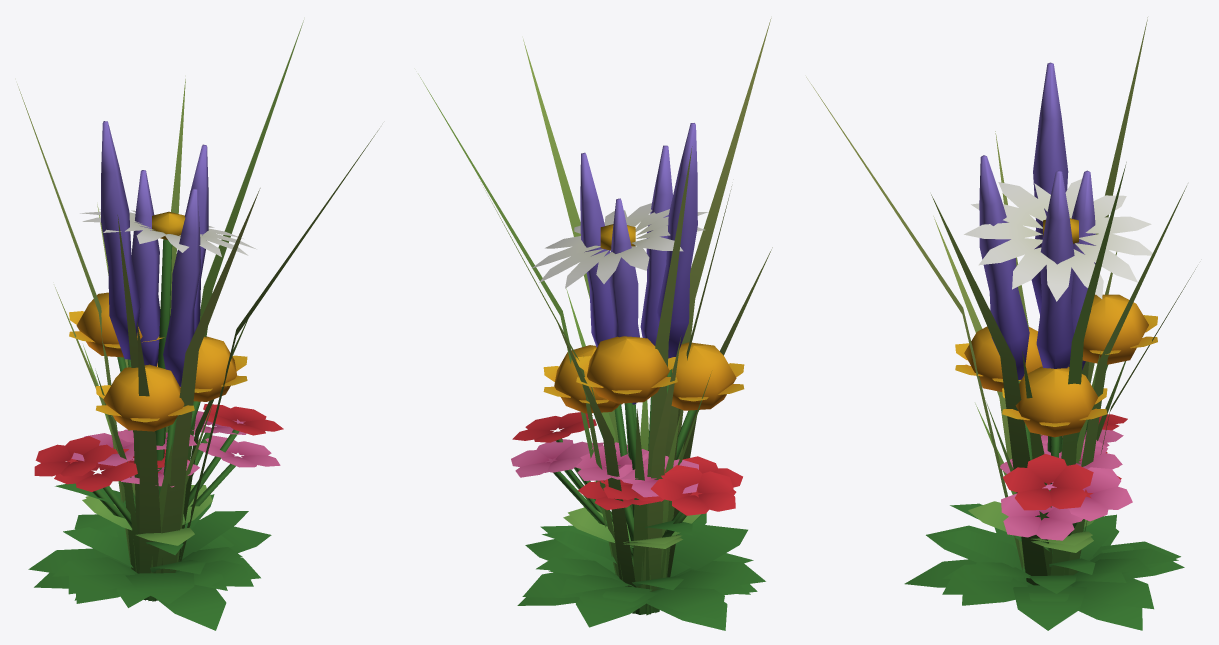
Rendered from flores.glb.
3 views of the same model, side by side, from view 1: azimuth 30°, elevation 25°; view 2: azimuth 150°, elevation 25°; view 3: azimuth 270°, elevation 25° (orthographic). The views are drawn at different scales.
Visible parts, largest first — view 1: salvia, capim_alto, cravo, beijo_vermelho, beijo_rosa, margarida, capim; view 2: cravo, capim_alto, salvia, beijo_vermelho, beijo_rosa, margarida, capim; view 3: salvia, cravo, capim_alto, beijo_rosa, margarida, beijo_vermelho, capim.
Boxes of the visible parts, x1,y1,x2,y2 form: salvia: (74,121,233,600); capim_alto: (17,20,379,601); cravo: (52,292,248,607); beijo_vermelho: (34,404,283,604); beijo_rosa: (28,411,280,630); margarida: (55,209,256,555); capim: (83,320,247,600); cravo: (536,336,753,595); capim_alto: (418,18,772,614); salvia: (549,123,750,602); beijo_vermelho: (512,412,765,630); beijo_rosa: (511,439,757,620); margarida: (532,203,708,563); capim: (566,288,710,615); salvia: (942,62,1134,601); cravo: (936,294,1178,593); capim_alto: (806,17,1196,585); beijo_rosa: (904,429,1180,630); margarida: (950,179,1155,574); beijo_vermelho: (926,414,1184,630); capim: (975,349,1125,575).
Size of the model in its own units: 0.2247 by 0.3723 by 0.2511.
